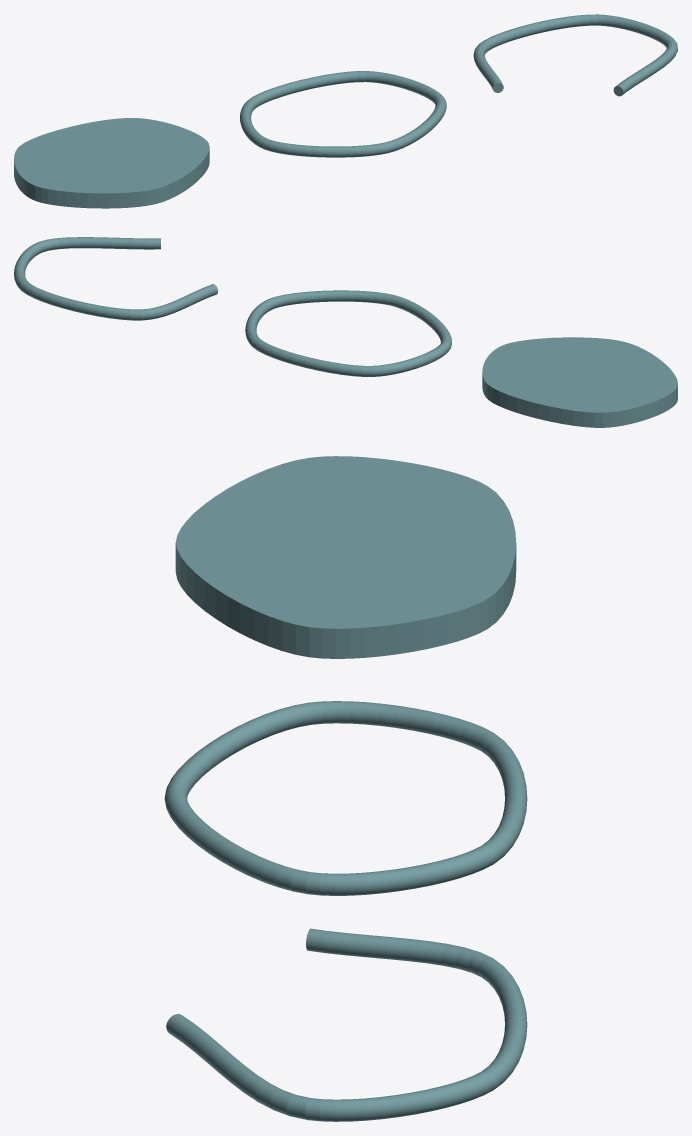
The model's file is profiles_spline.glb.
The picture shows the model from 3 angles, top to bottom: view 1: azimuth 30°, elevation 25°; view 2: azimuth 150°, elevation 25°; view 3: azimuth 270°, elevation 25°; orthographic projection. The views are drawn at different scales.
Visible parts, largest first — view 1: loop; view 2: loop; view 3: loop.
Part boxes in pixels (x1,y1,x2,y2): loop: [14, 14, 677, 208]; loop: [14, 237, 677, 427]; loop: [164, 456, 527, 1121].
Size of the model in its own units: 0.1337 by 0.004 by 0.0326.
